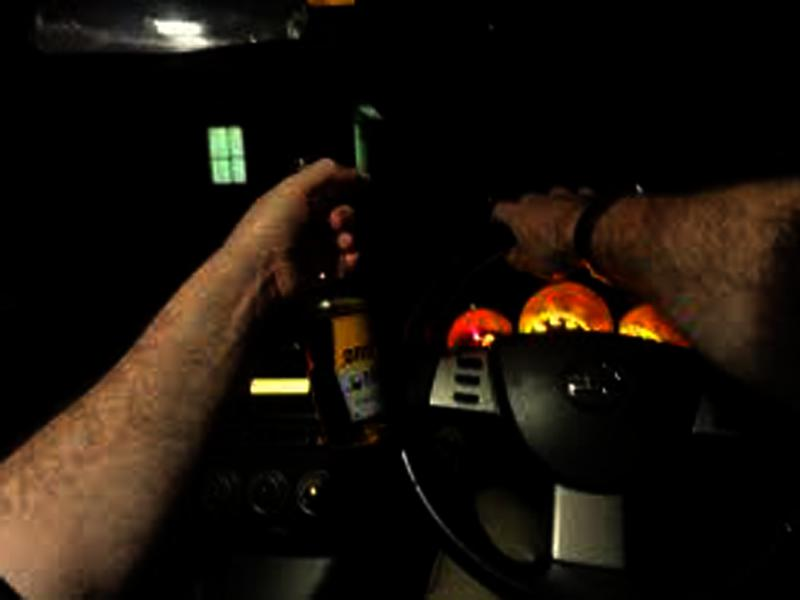Beer: (286, 158, 401, 445)
